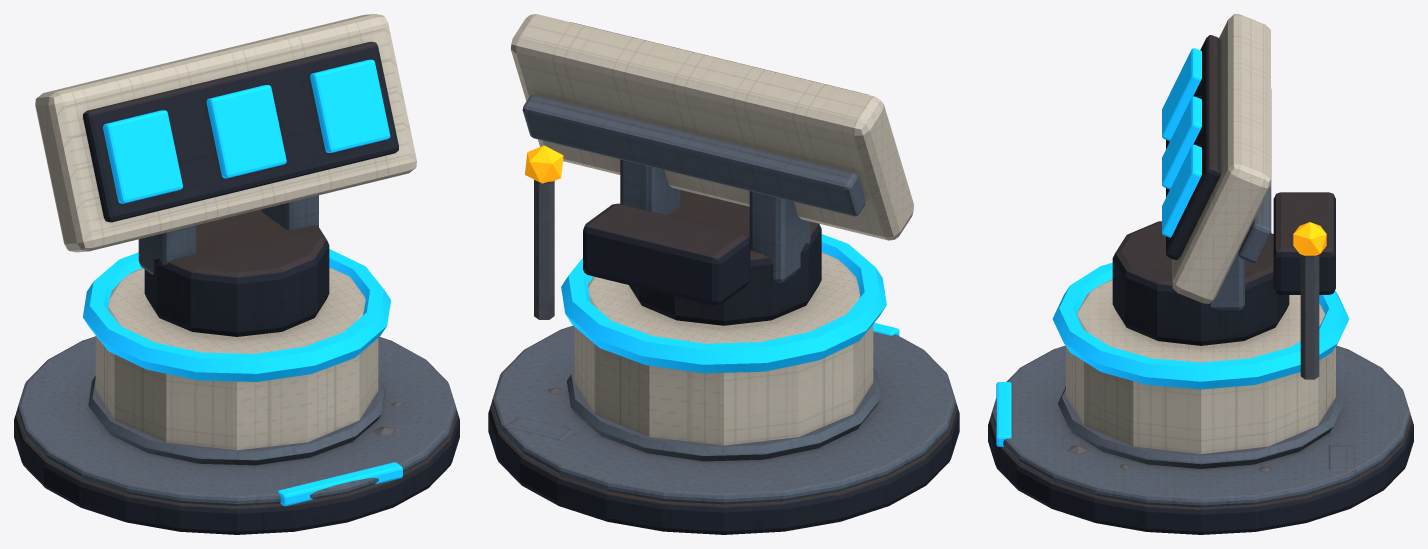
File: radar.glb
3 views of the same model, side by side, from view 1: azimuth 30°, elevation 25°; view 2: azimuth 150°, elevation 25°; view 3: azimuth 270°, elevation 25° (orthographic). The views are drawn at different scales.
Visible parts, largest first — view 1: Android Ceramic, Android Graphite, Android Chassis, Android FactionAccent; view 2: Android Ceramic, Android Chassis, Android Graphite, Android FactionAccent, Android Energy; view 3: Android Ceramic, Android Graphite, Android Chassis, Android FactionAccent, Android Energy.
Boxes of the visible parts, x1,y1,x2,y2 form: Android Ceramic: (35,14,416,450); Android Graphite: (14,41,459,534); Android Chassis: (17,195,456,505); Android FactionAccent: (83,59,402,506); Android Ceramic: (510,14,914,445); Android Chassis: (492,94,955,504); Android Graphite: (488,22,959,534); Android FactionAccent: (561,234,899,373); Android Energy: (525,145,563,183); Android Ceramic: (1066,14,1335,454); Android Graphite: (988,35,1413,534); Android Chassis: (991,89,1410,507); Android FactionAccent: (996,48,1349,446); Android Energy: (1293,222,1326,255).
Bounding box in the file's own units: 0.82 × 0.7606 × 0.82.
6 materials, 4 textured.
